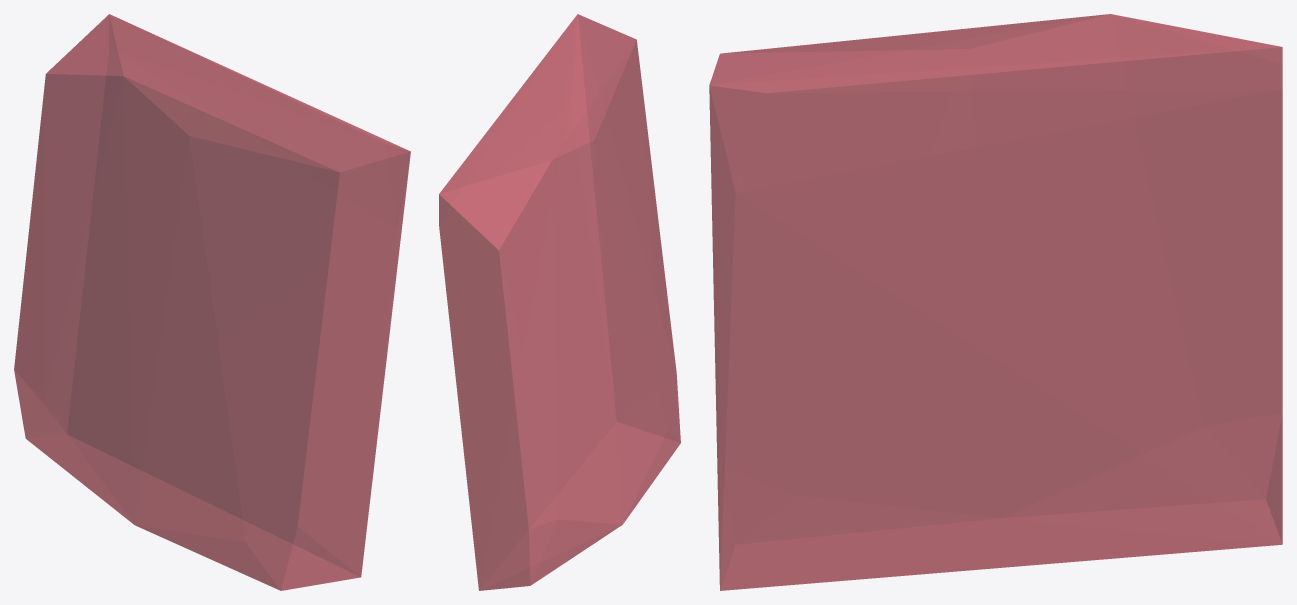
The picture shows the model from 3 angles, left to right: view 1: azimuth 30°, elevation 25°; view 2: azimuth 150°, elevation 25°; view 3: azimuth 270°, elevation 25°; orthographic projection. The views are drawn at different scales.
Parts seen in each view (by area): view 1: Shape_IndexedFaceSet.062_Shape_IndexedFaceSet.103; view 2: Shape_IndexedFaceSet.062_Shape_IndexedFaceSet.103; view 3: Shape_IndexedFaceSet.062_Shape_IndexedFaceSet.103.
Part boxes in pixels (bbox=[...]): Shape_IndexedFaceSet.062_Shape_IndexedFaceSet.103: bbox=[14, 14, 410, 590]; Shape_IndexedFaceSet.062_Shape_IndexedFaceSet.103: bbox=[439, 14, 680, 590]; Shape_IndexedFaceSet.062_Shape_IndexedFaceSet.103: bbox=[709, 14, 1282, 590].
Bounding box in the file's own units: 0.125 × 0.289 × 0.2812.
